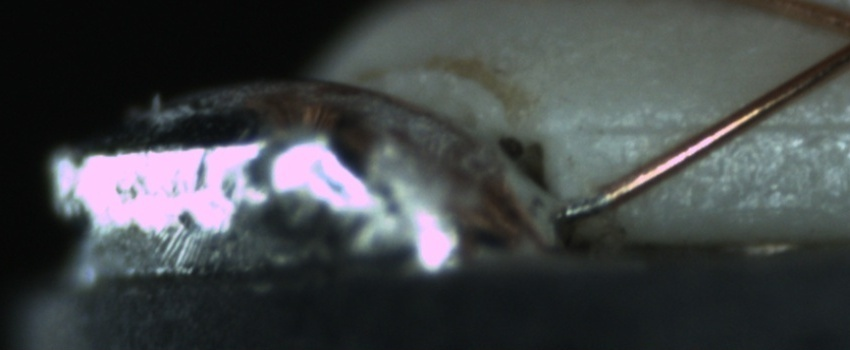DL: (572, 94, 847, 161)
TS: (559, 190, 609, 221)
